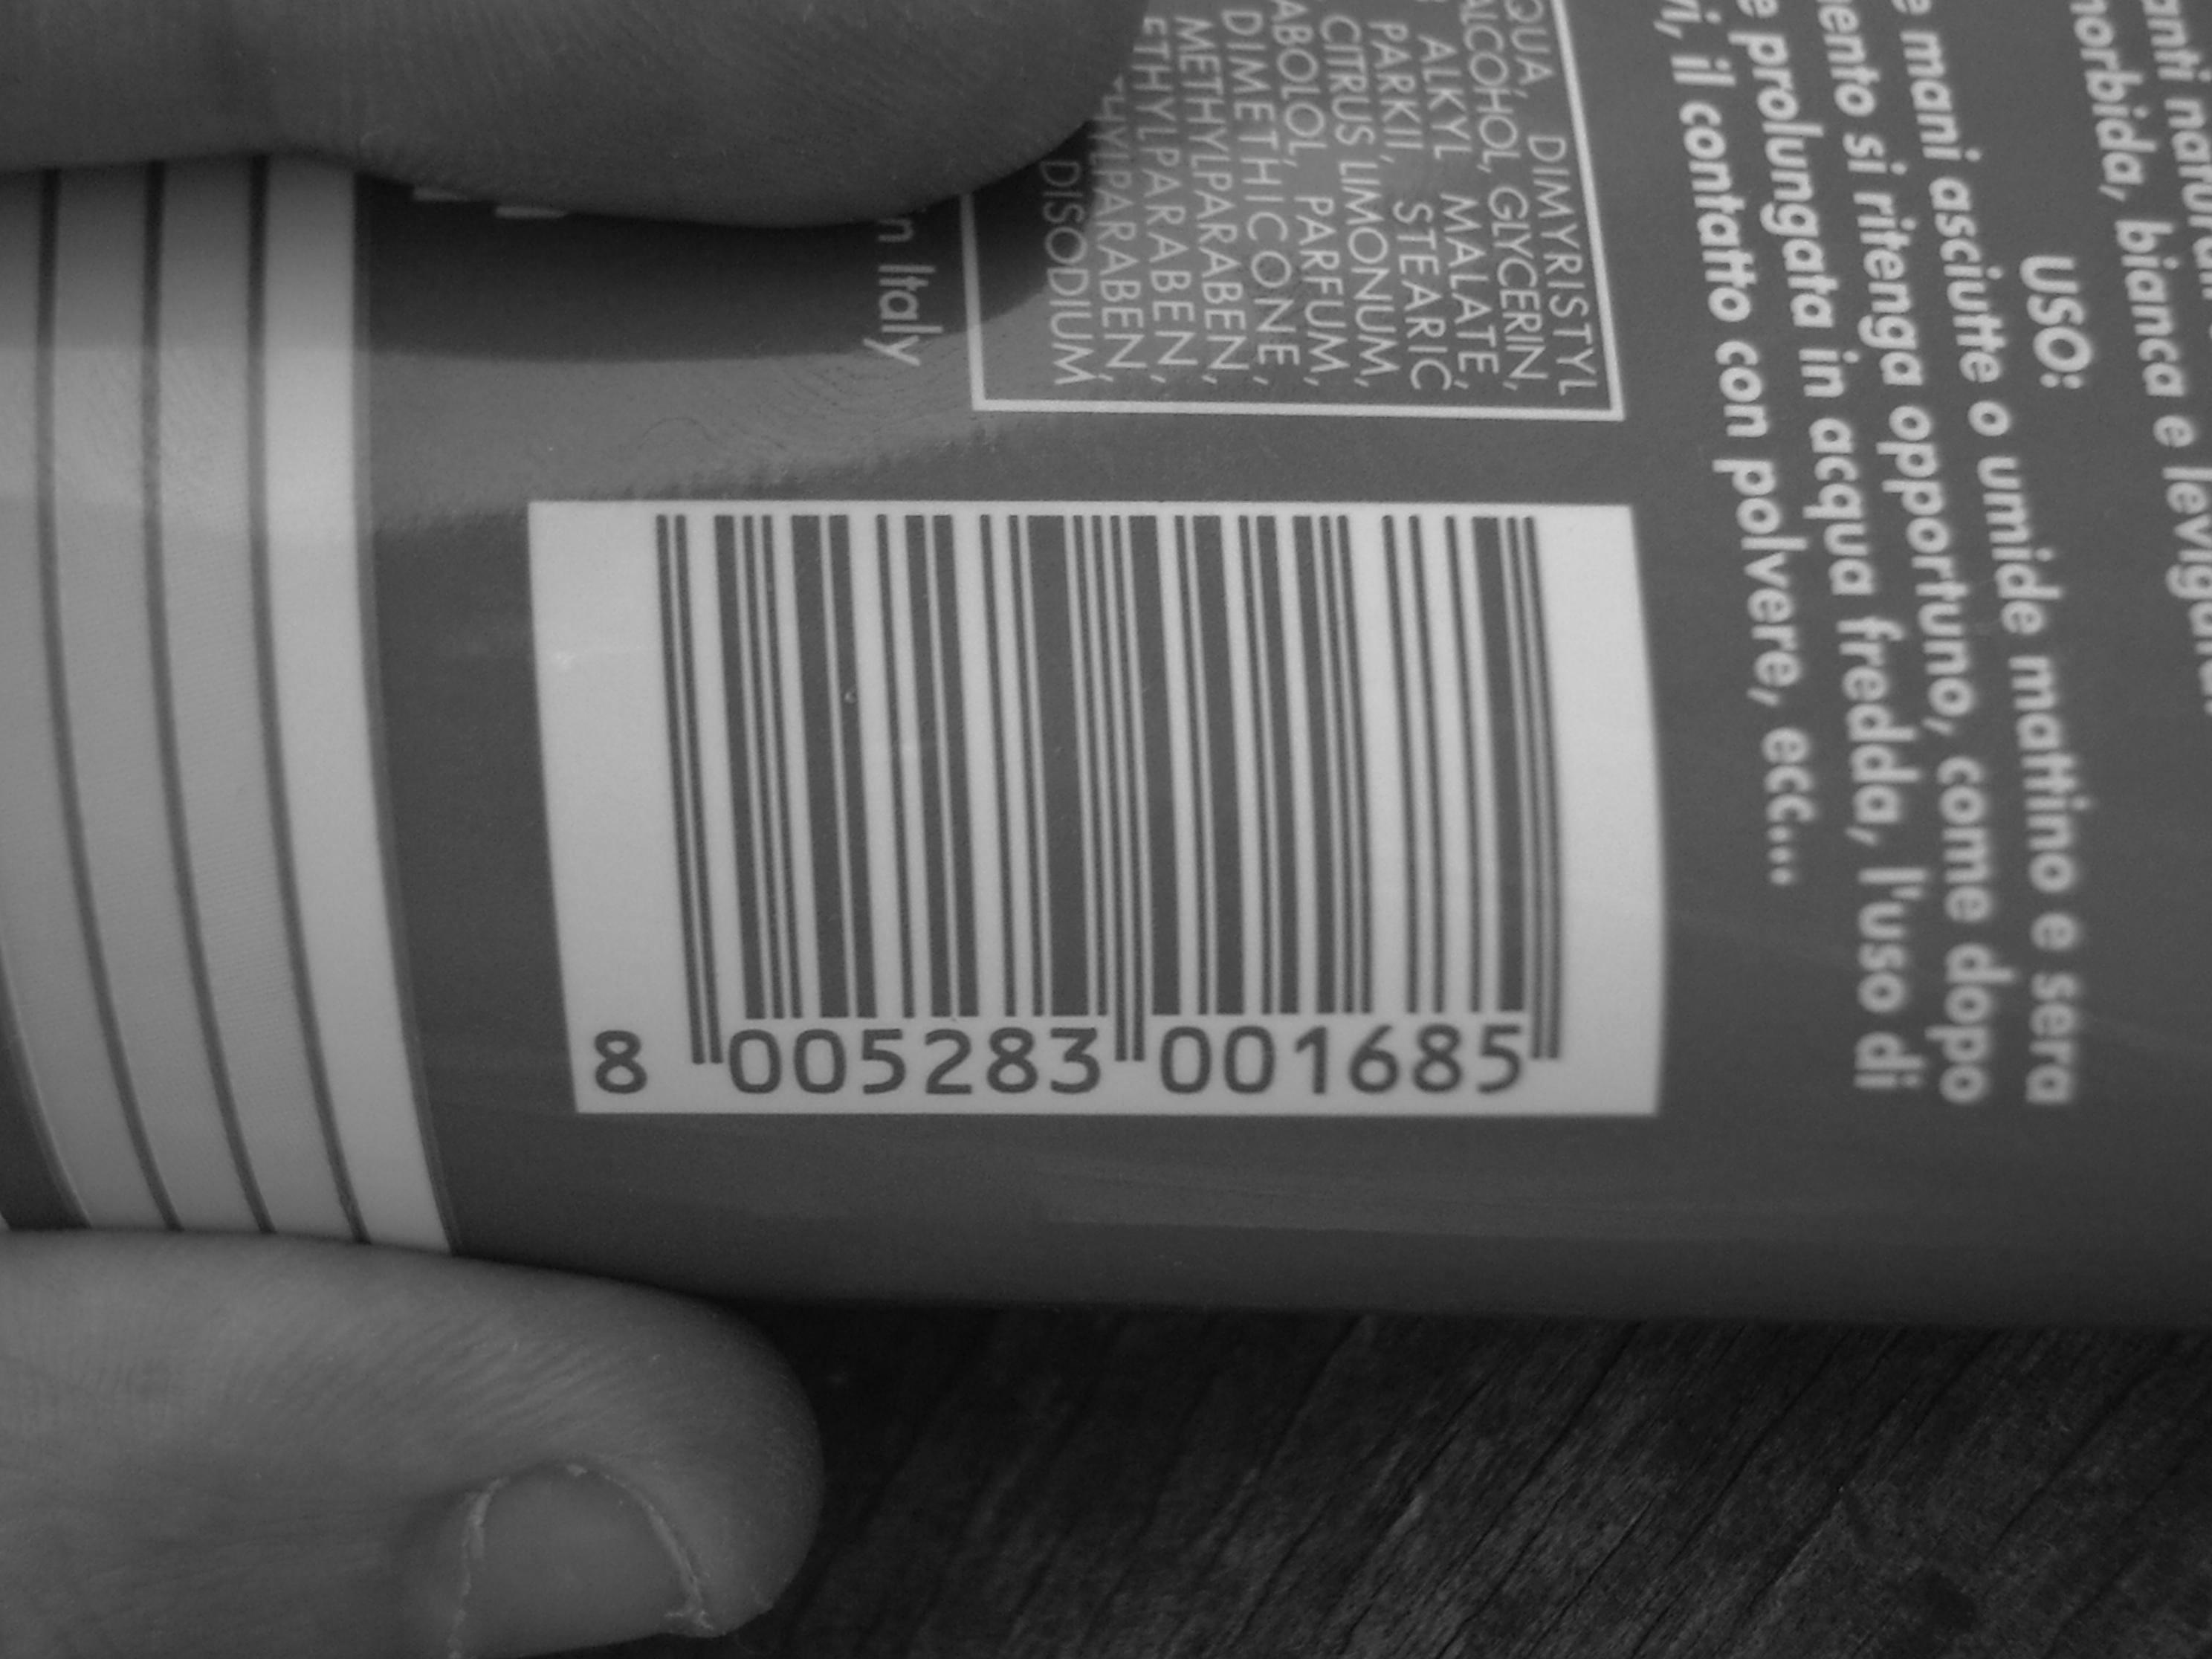Barcode: (528, 488, 1601, 1087)
